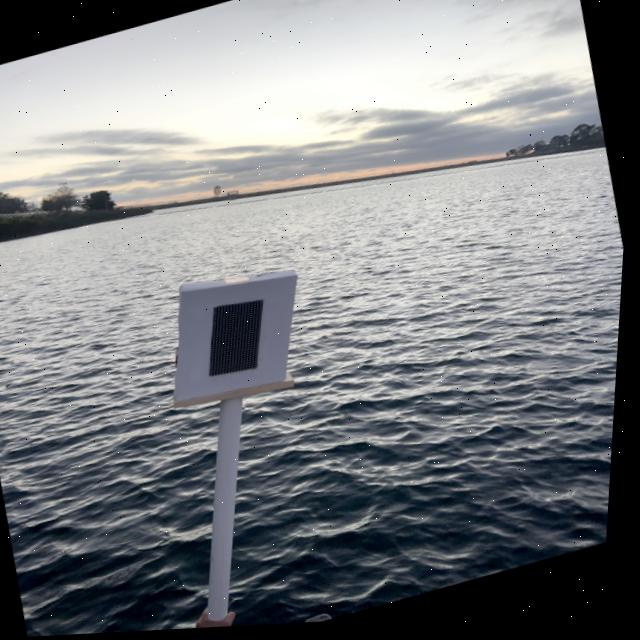led: (189, 280, 294, 397)
